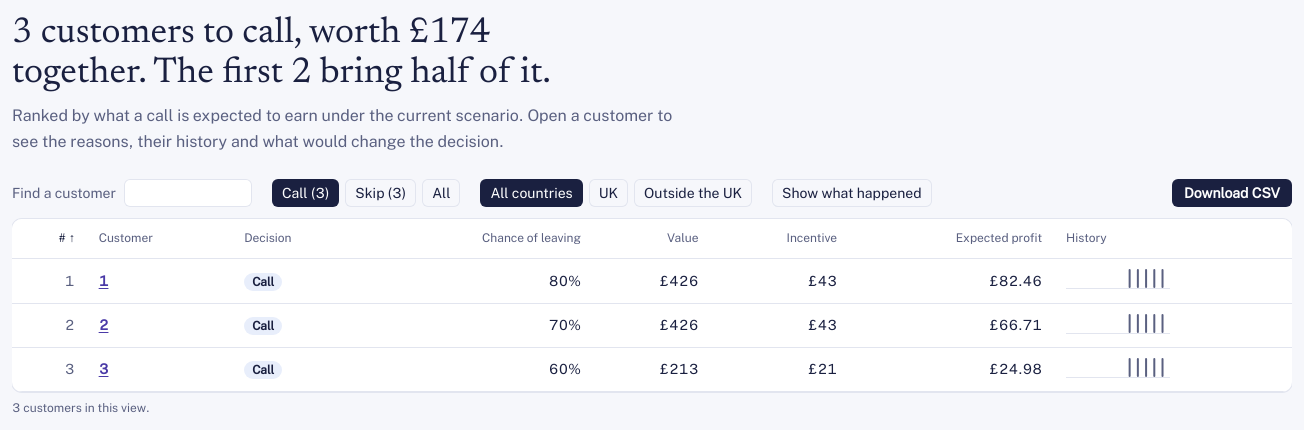
it: outcomes stay hidden until asked for
The width and height of the screenshot is (1304, 430).
Check: the heading is shown, box [12,16,551,92]
Click the button "Show what happened" at {"x": 852, "y": 193}, box [772,179,932,207]
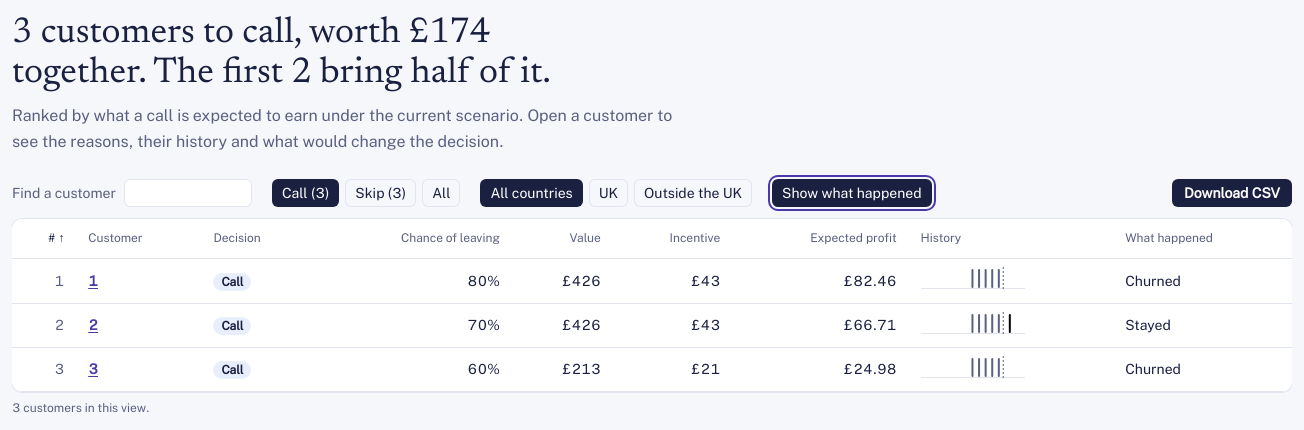
Check: the text "Churned" in the row of "80%" is shown, box [1125,273,1181,289]
